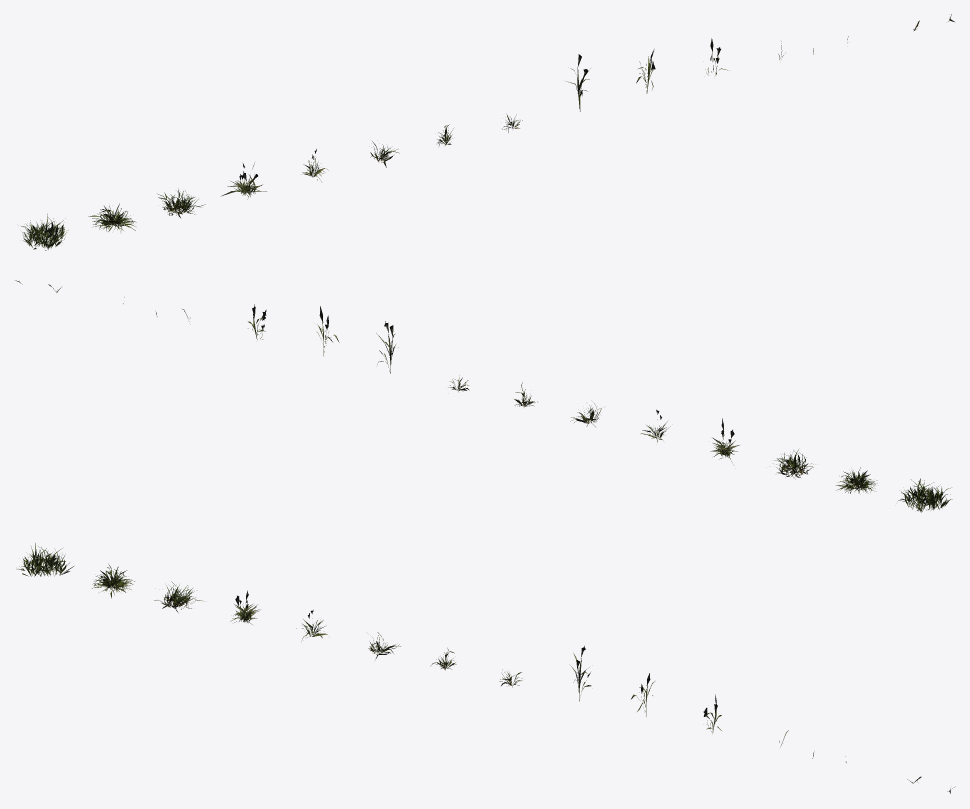
Rendered from grass_medium_01_mid.glb.
The picture shows the model from 3 angles, top to bottom: view 1: azimuth 30°, elevation 25°; view 2: azimuth 150°, elevation 25°; view 3: azimuth 330°, elevation 25°; orthographic projection.
Bounding box in the file's own units: 5.59 × 0.3387 × 0.3179.
Materials: 1 (1 with a texture image).
